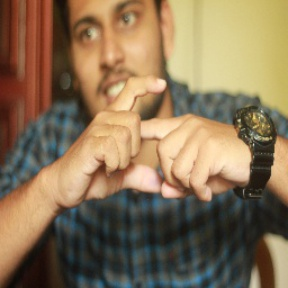E: (90, 71, 191, 198)
